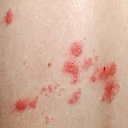Hives: (97, 59, 117, 101), (63, 42, 82, 78), (16, 95, 39, 112), (70, 86, 83, 103), (5, 8, 14, 24)
